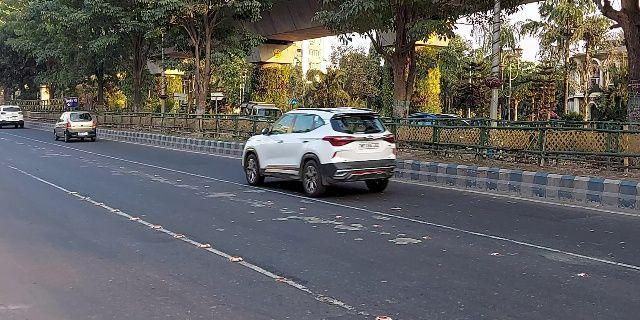Car: (240, 102, 398, 202), (52, 108, 99, 146), (1, 102, 27, 132)
